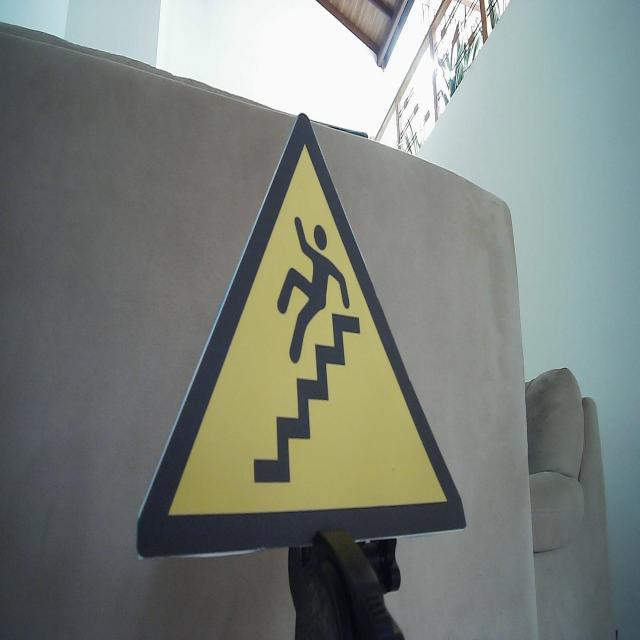stairs: (134, 111, 469, 564)
